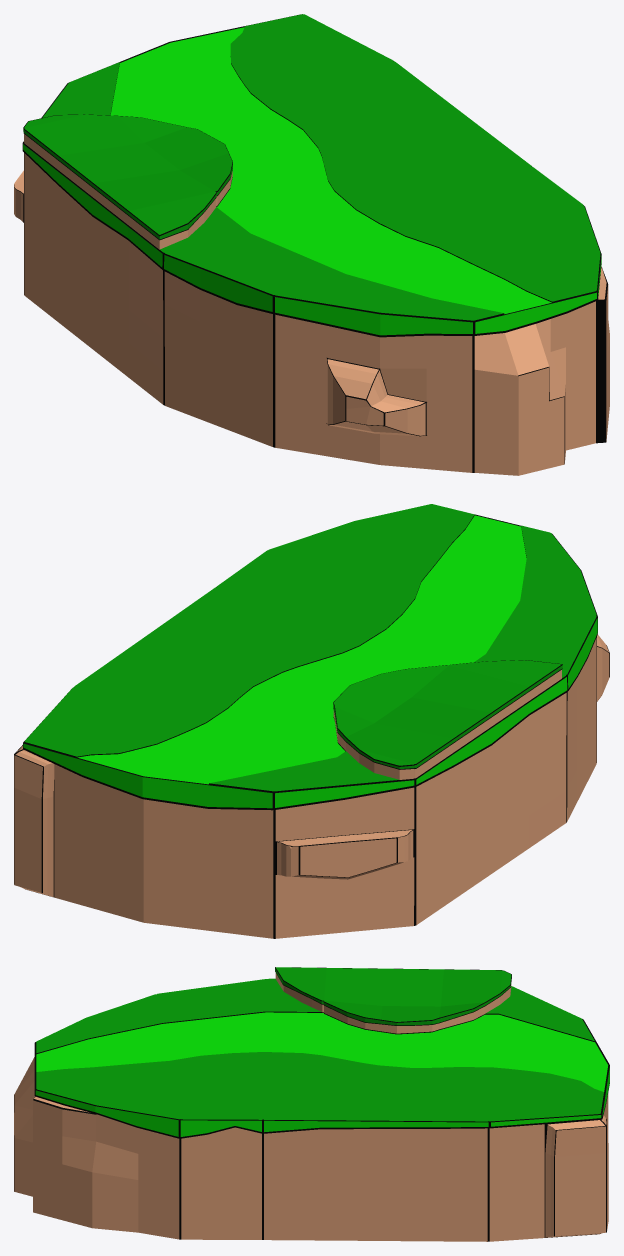
File: CardboardPlatform15.fbx
The picture shows the model from 3 angles, top to bottom: view 1: azimuth 30°, elevation 25°; view 2: azimuth 150°, elevation 25°; view 3: azimuth 270°, elevation 25°; orthographic projection. The views are drawn at different scales.
Parts seen in each view (by area): view 1: Cube.027; view 2: Cube.027; view 3: Cube.027.
Part boxes in pixels (x1,y1,x2,y2): Cube.027: (14,14,609,475); Cube.027: (14,504,609,938); Cube.027: (14,967,609,1241).
Size of the model in its own units: 2124 by 912 by 3733.
